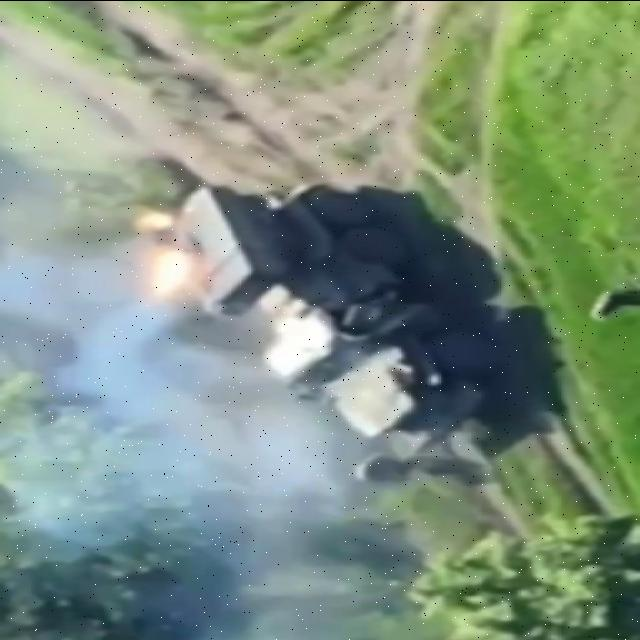MLRS: (148, 182, 494, 444)
